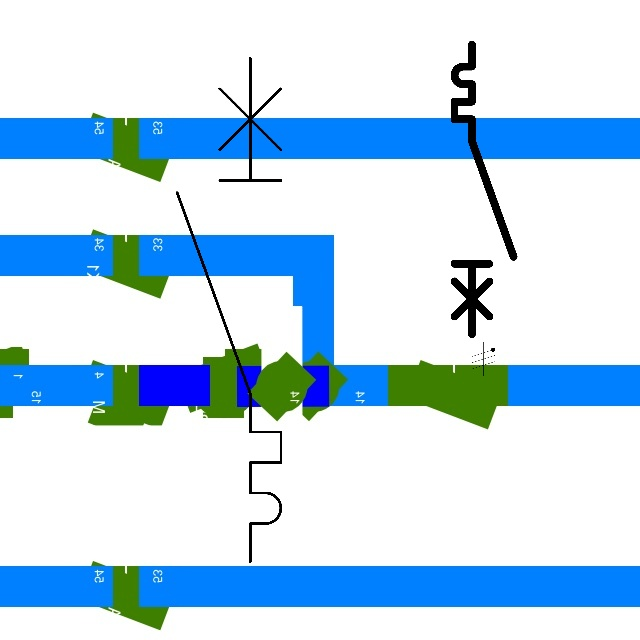interruptor_termomagnetico: (164, 45, 294, 575), (447, 37, 521, 341)
